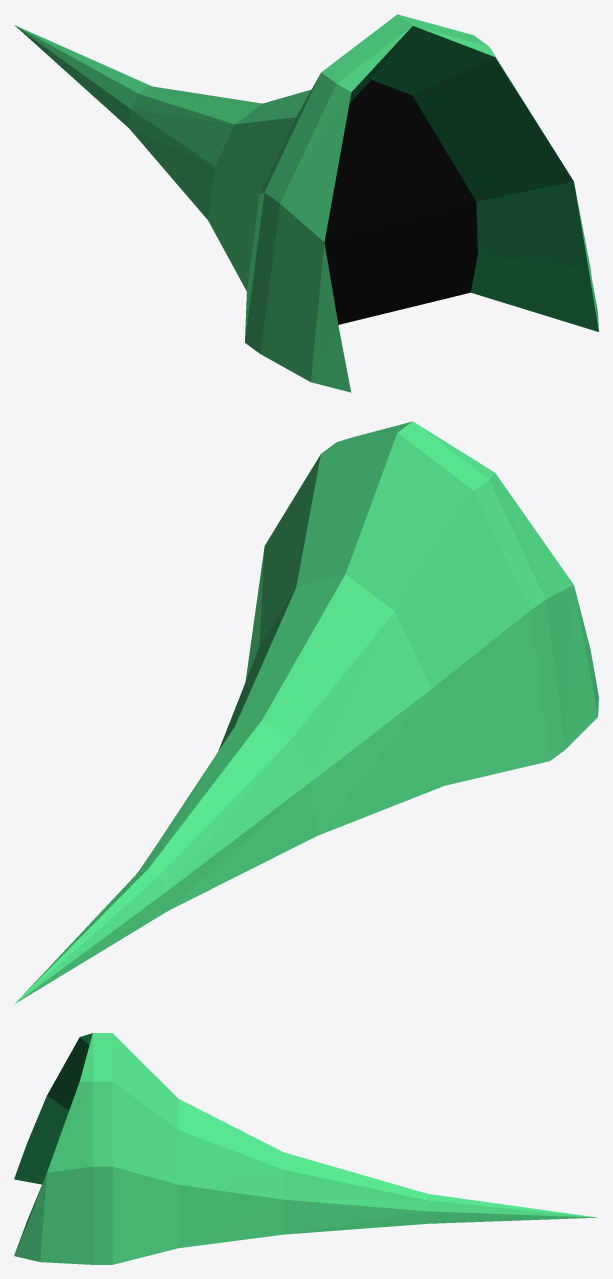
Rendered from Leg.FBX.
3 renders of one model, top to bottom at view 1: azimuth 30°, elevation 25°; view 2: azimuth 150°, elevation 25°; view 3: azimuth 270°, elevation 25°, orthographic. The views are drawn at different scales.
Visible parts, largest first — view 1: VIFS001, VIFS002, VIFS003; view 2: VIFS001; view 3: VIFS001, VIFS002.
Part boxes in pixels (x1=…): VIFS001: x1=14, y1=14, x2=598, y2=392; VIFS002: x1=349, y1=26, x2=598, y2=331; VIFS003: x1=324, y1=80, x2=477, y2=324; VIFS001: x1=15, y1=421, x2=598, y2=1003; VIFS001: x1=14, y1=1033, x2=596, y2=1264; VIFS002: x1=14, y1=1033, x2=92, y2=1251.
Size of the model in its own units: 0.34 by 0.31 by 0.89.
